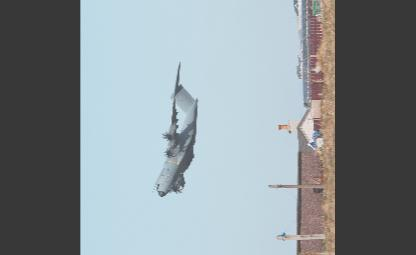A400M: (152, 59, 198, 195)
